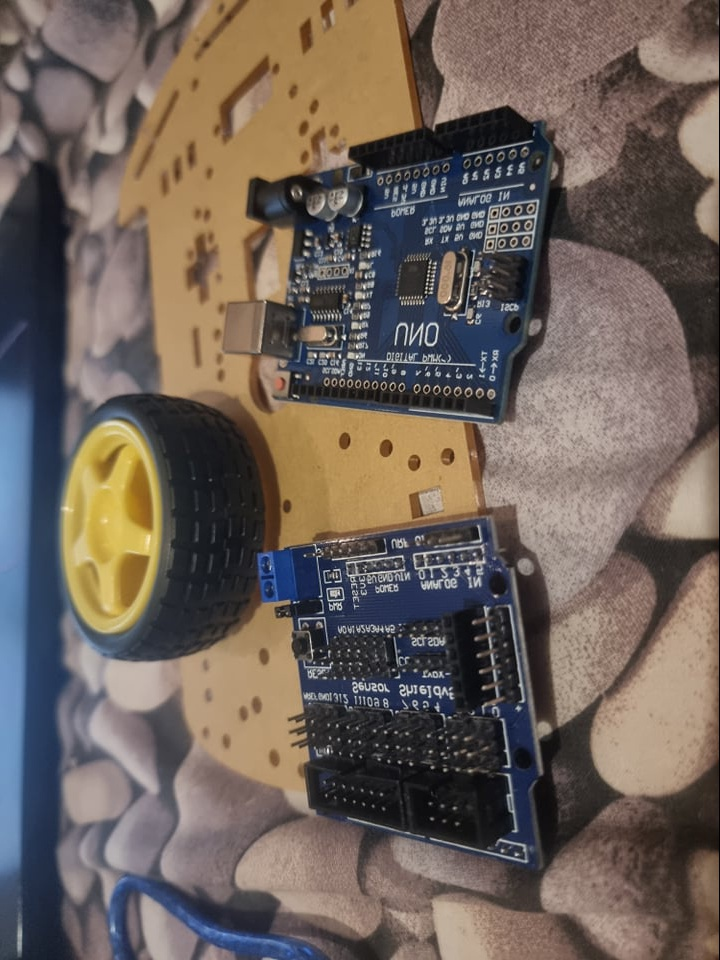5V EXPANSION: (255, 515, 546, 868)
UNO R3: (224, 103, 556, 424)
